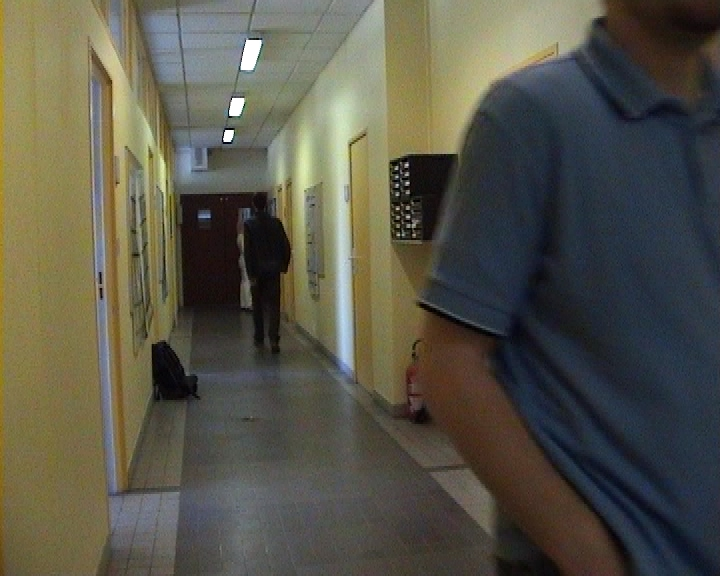leave bag unattended: (129, 317, 240, 407)
